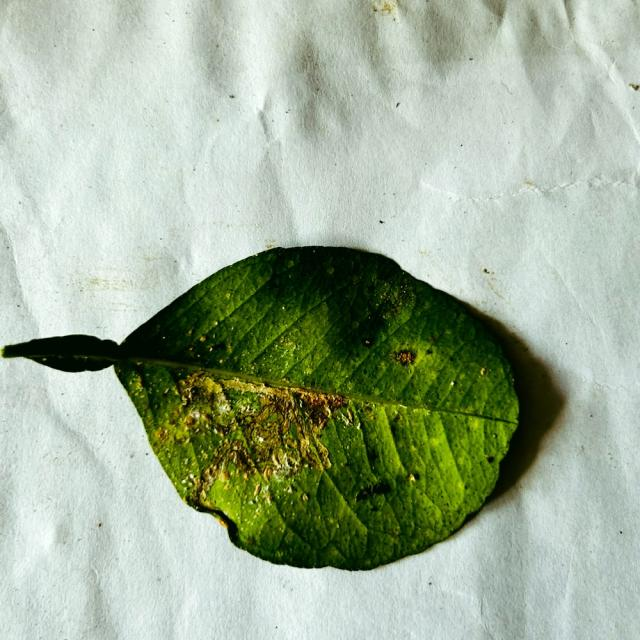Bacterial_Blight: (242, 402, 305, 473), (178, 372, 231, 418), (210, 439, 255, 484), (245, 433, 285, 468), (248, 423, 273, 451)
Lemon: (3, 246, 522, 573)
